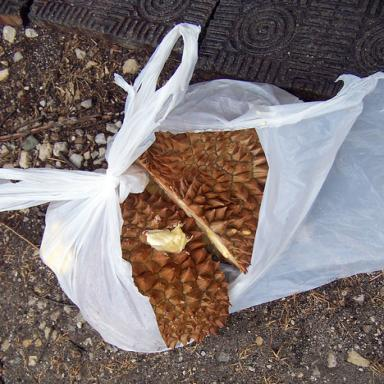plasticbag: (3, 24, 381, 336)
